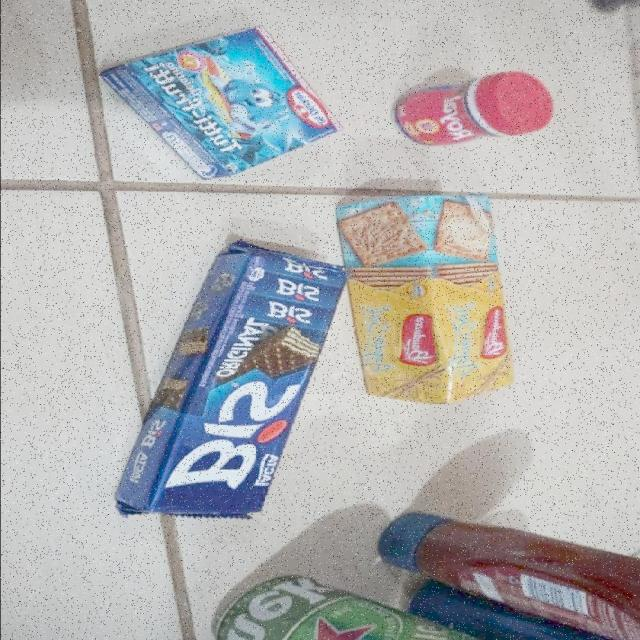BeerCan: (212, 575, 497, 640)
Cracker: (334, 194, 516, 405)
Gelatine: (98, 25, 343, 179)
Ketchup: (377, 510, 640, 640)
Yeast: (393, 70, 556, 147)
